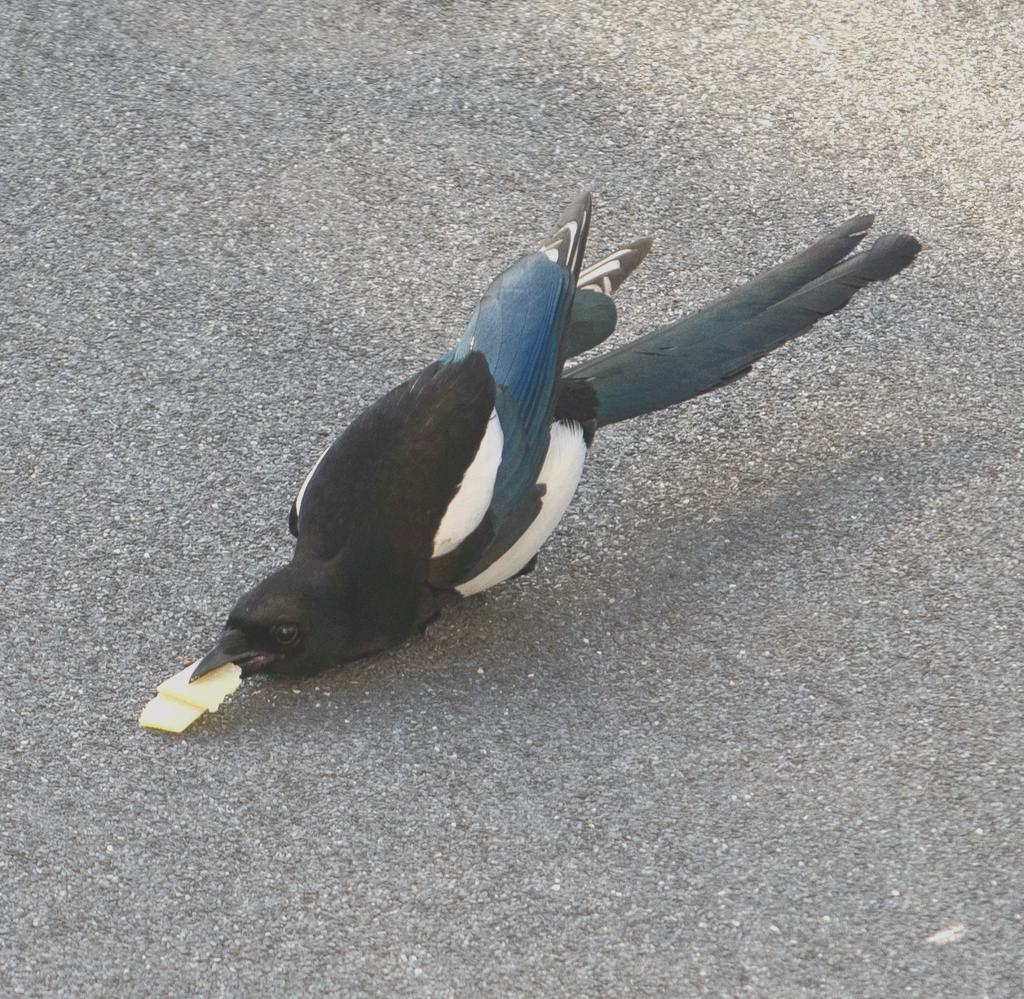PicaPica: (185, 189, 921, 682)
